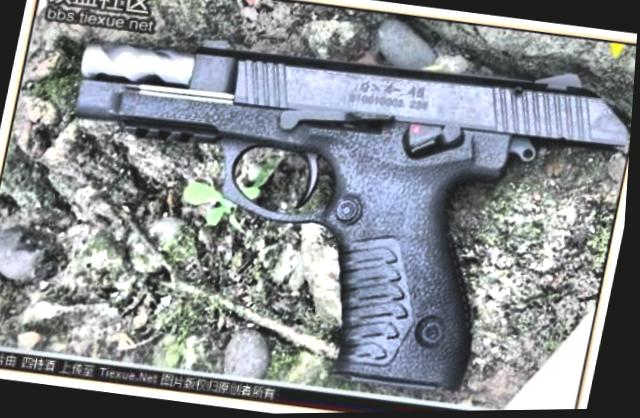pistol: (1, 14, 639, 418)
